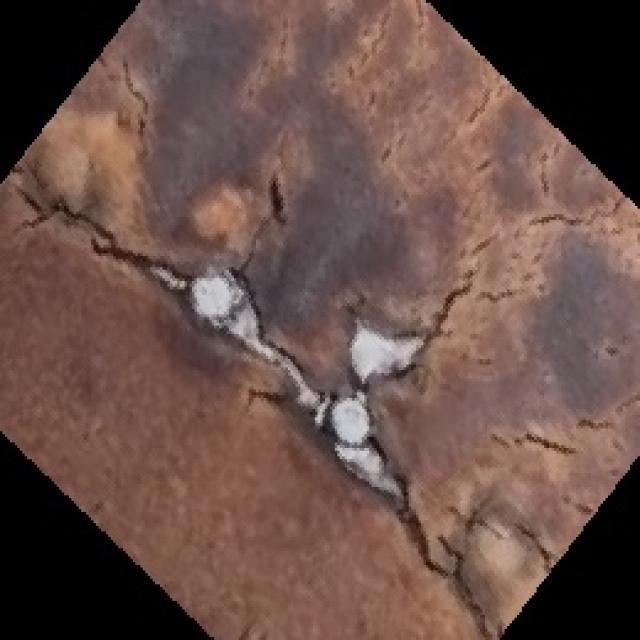crack: (53, 185, 154, 322), (432, 274, 496, 355), (235, 213, 289, 266)
